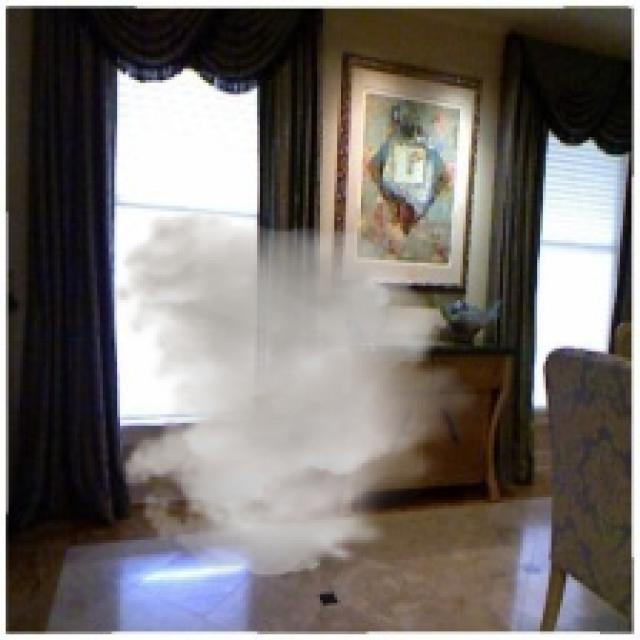Smoke: (108, 212, 486, 577)
